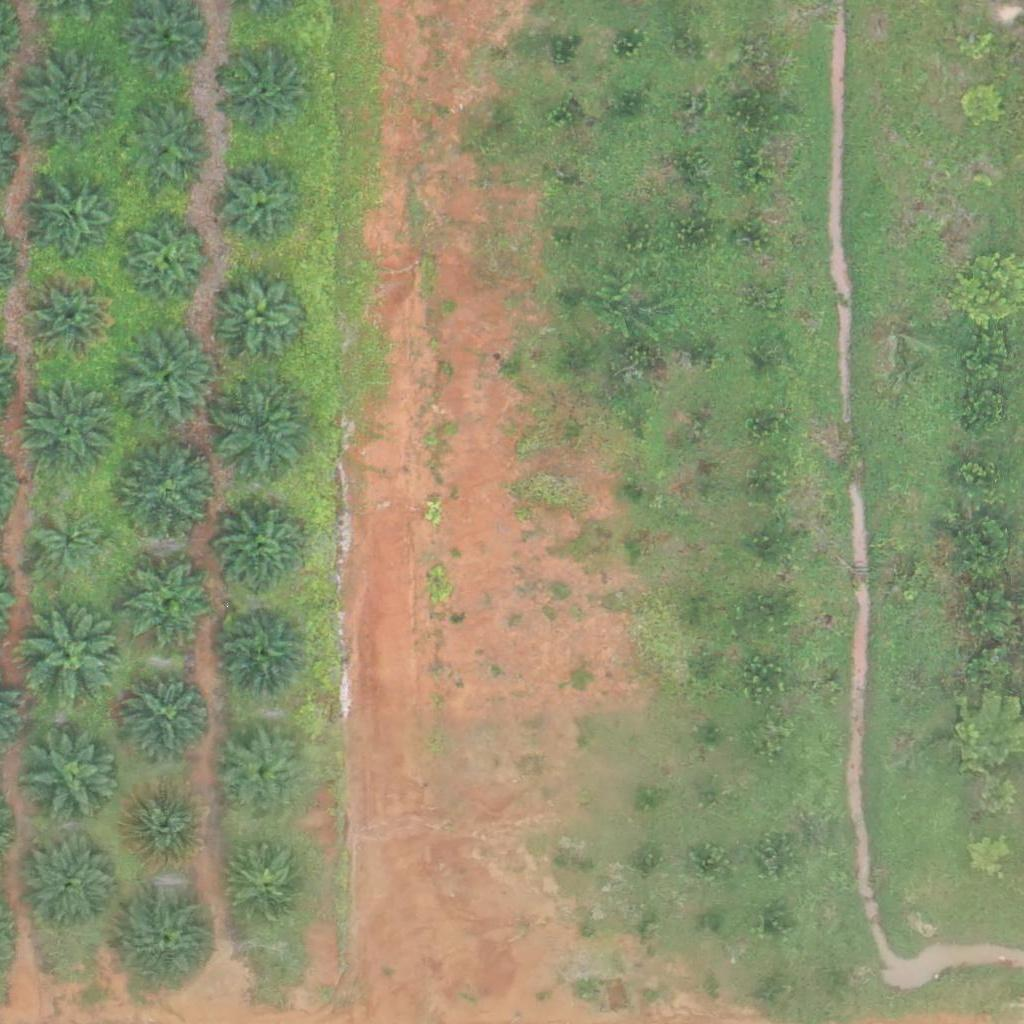Kelapa_Sawit: (21, 56, 121, 157), (25, 607, 125, 708), (23, 728, 123, 829), (21, 832, 121, 933), (120, 886, 220, 987), (210, 377, 310, 477), (115, 329, 215, 429), (117, 443, 217, 543), (20, 381, 120, 481), (223, 48, 311, 136), (219, 162, 307, 250), (220, 272, 308, 360), (127, 559, 215, 647), (121, 669, 209, 757), (121, 780, 209, 868), (226, 843, 314, 931), (125, 104, 212, 192), (30, 176, 117, 264), (220, 509, 307, 597), (221, 606, 308, 694), (220, 732, 307, 820), (122, 215, 209, 303), (26, 273, 113, 361), (32, 509, 107, 585)
